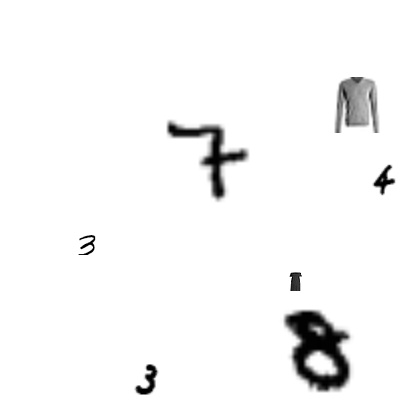3: (127, 360, 169, 402), (74, 230, 102, 258)
4: (362, 159, 404, 201)
7: (152, 97, 264, 209)
8: (261, 291, 373, 403)
Dress: (281, 272, 309, 300)
Pullover: (329, 77, 385, 133)
